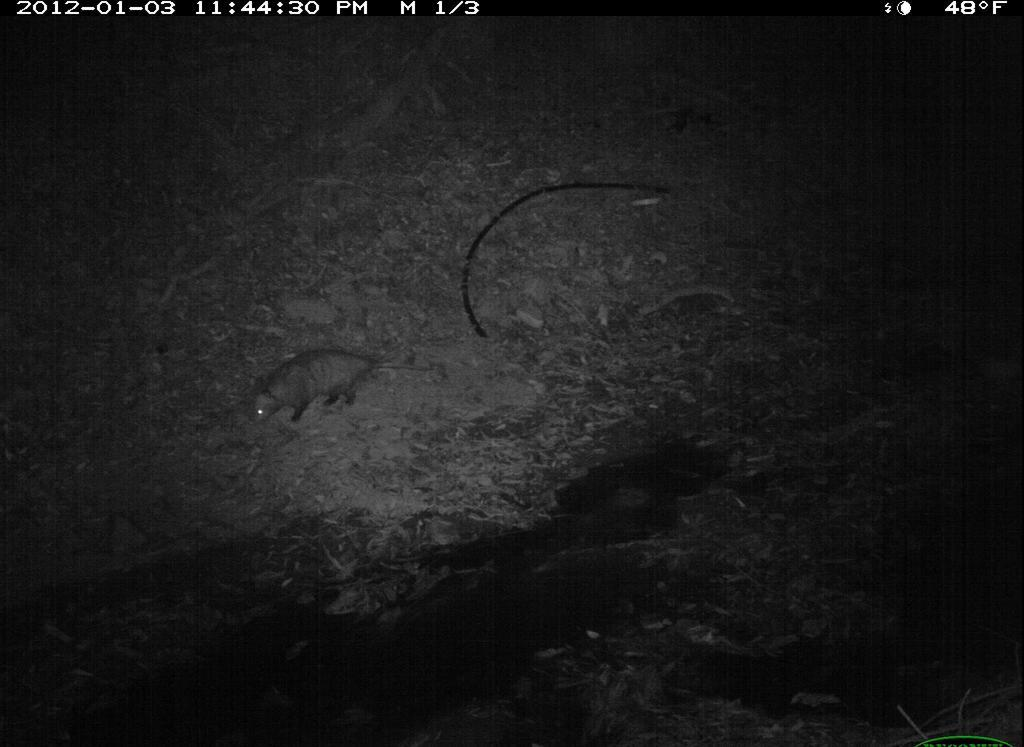opossum: (230, 335, 446, 431)
